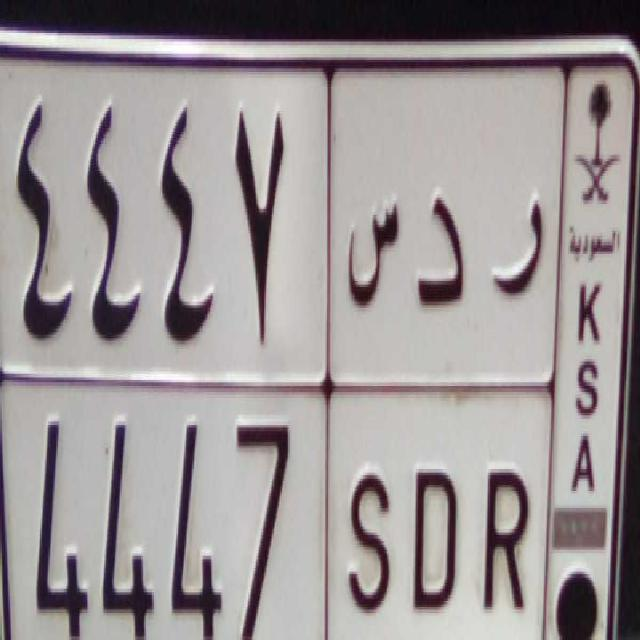license_plate: (2, 370, 538, 640)
